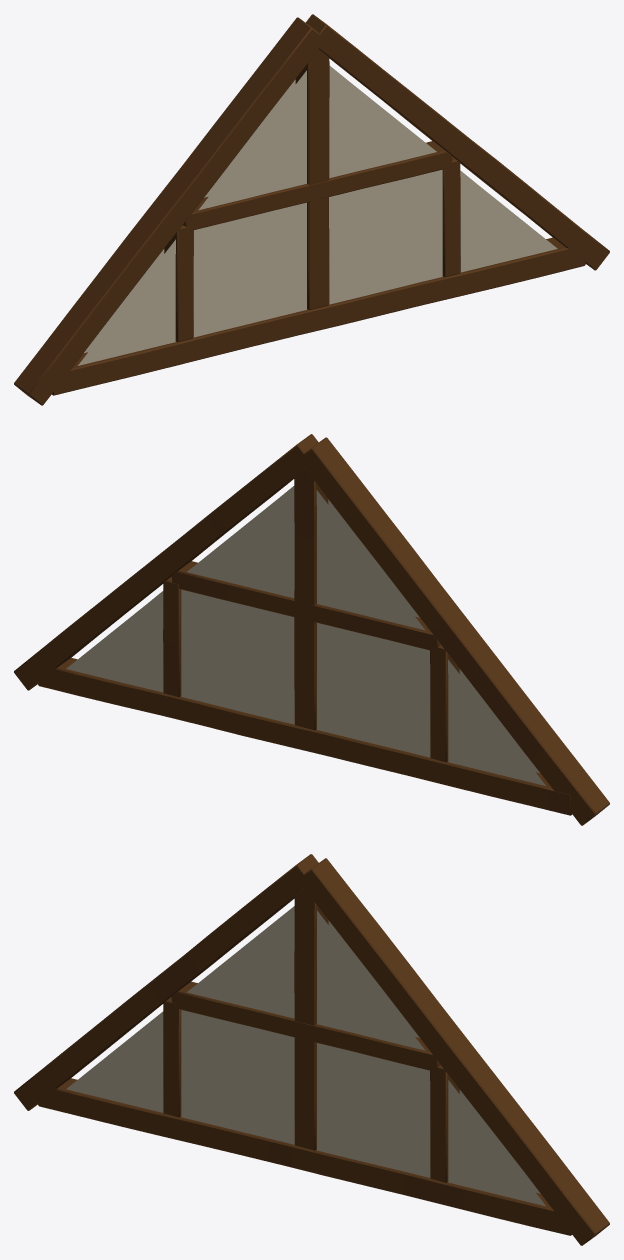
The model's file is giebel.glb.
3 views of the same model, one above another, from view 1: azimuth 30°, elevation 25°; view 2: azimuth 150°, elevation 25°; view 3: azimuth 330°, elevation 25° (orthographic).
Visible parts, largest first — view 1: giebel; view 2: giebel; view 3: giebel.
Boxes of the visible parts, left/top/right/bottom form: giebel: left=14, top=14, right=609, bottom=405; giebel: left=14, top=434, right=609, bottom=825; giebel: left=14, top=854, right=609, bottom=1245.
Bounding box in the file's own units: 4.36 × 2.23 × 0.2041.
